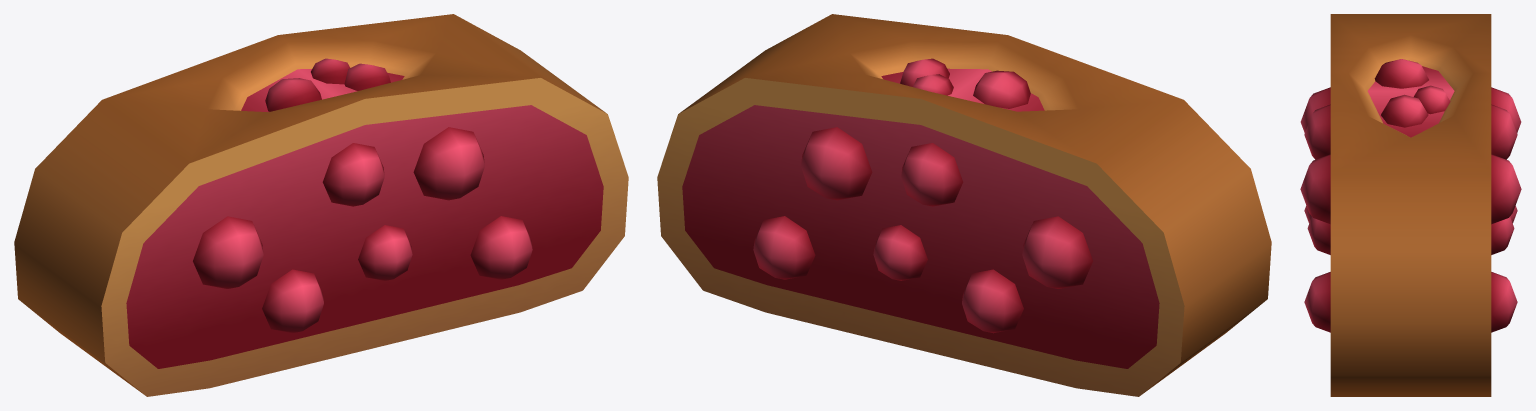
The model's file is m_CherryStrudel01_Slice.fbx.
The picture shows the model from 3 angles, left to right: view 1: azimuth 30°, elevation 25°; view 2: azimuth 150°, elevation 25°; view 3: azimuth 270°, elevation 25°; orthographic projection. The views are drawn at different scales.
Parts seen in each view (by area): view 1: m_CherryStrudel01.001; view 2: m_CherryStrudel01.001; view 3: m_CherryStrudel01.001.
Boxes of the visible parts, x1,y1,x2,y2 form: m_CherryStrudel01.001: (14,14,628,396); m_CherryStrudel01.001: (657,14,1271,396); m_CherryStrudel01.001: (1300,14,1521,396).
Size of the model in its own units: 13.97 by 6.37 by 5.5.
